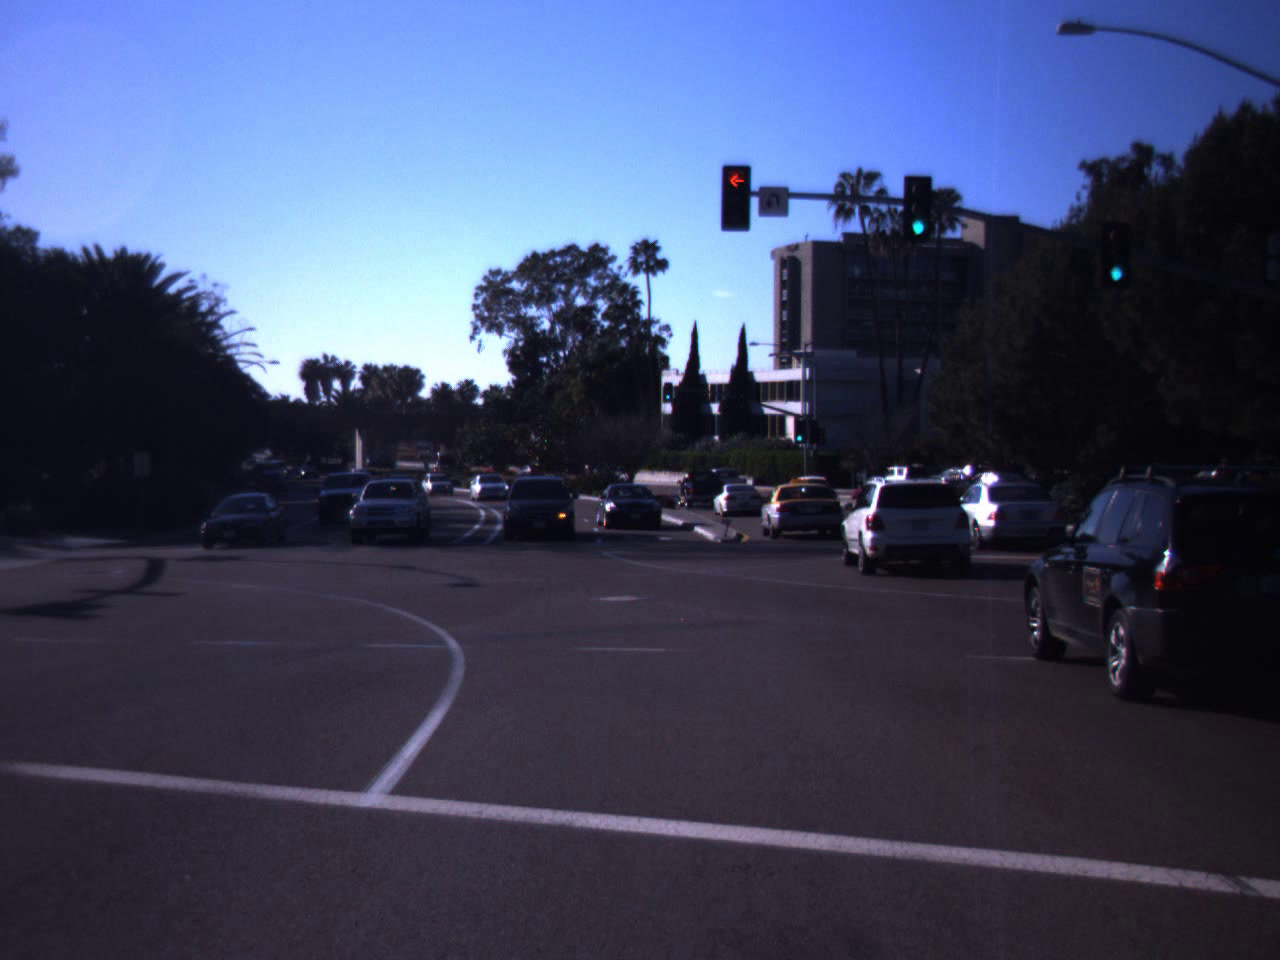go: (1097, 214, 1136, 284), (901, 163, 934, 238)
stop: (706, 161, 763, 237)
